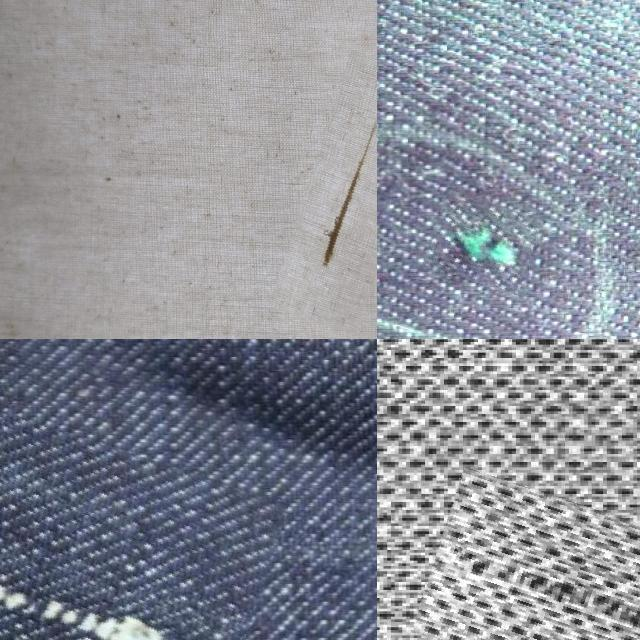stains: (0, 385, 268, 640), (418, 494, 640, 640), (287, 54, 377, 332), (426, 196, 536, 288)
